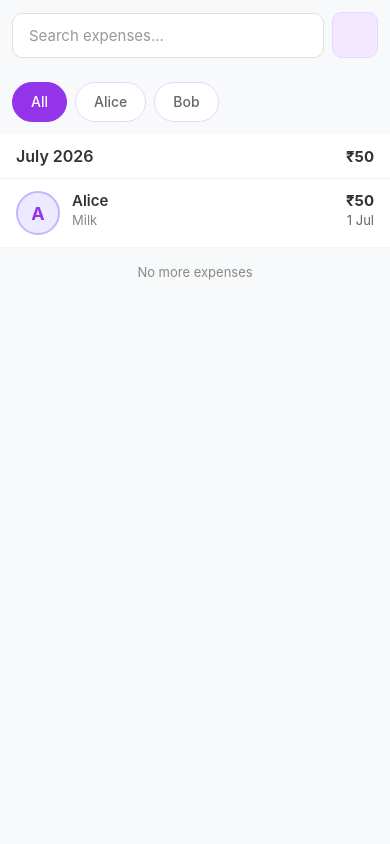
Test: ExpensesScreen expense detail dialog › opens the detail modal and shows the fetched expense when a card is tapped
The image size is (390, 844).
Check: the text "Expense Details" is not shown
Click the text "Milk": (85, 220) [72,212,97,228]
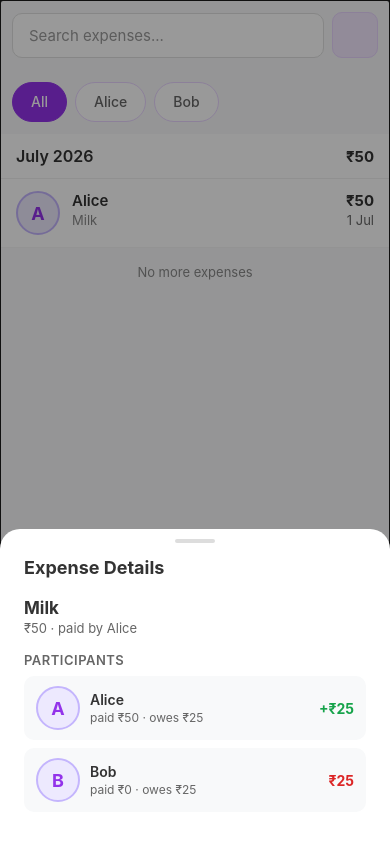
Check: the text "Expense Details" is shown, box [24,557,164,578]
Check: the text "₹50 · paid by Alice" is shown, box [24,620,137,636]
Check: the text "paid ₹0 · owes ₹25" is shown, box [90,782,196,797]
